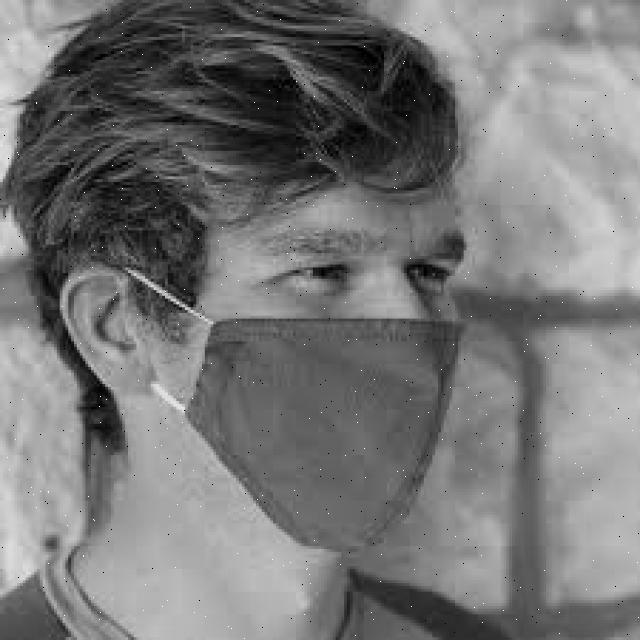fake: (181, 303, 480, 567)
real: (188, 171, 467, 564)
